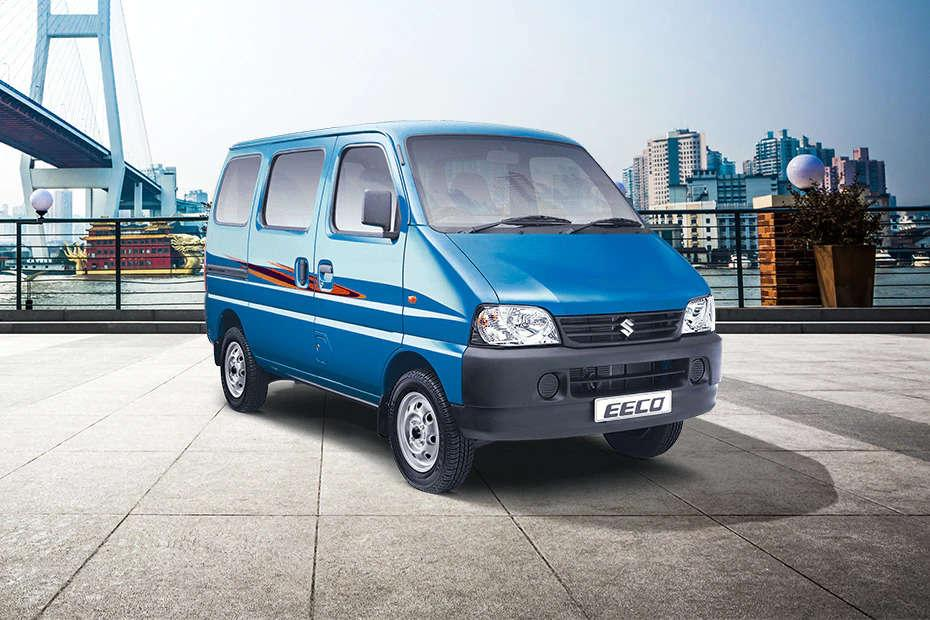van: (203, 117, 722, 494)
